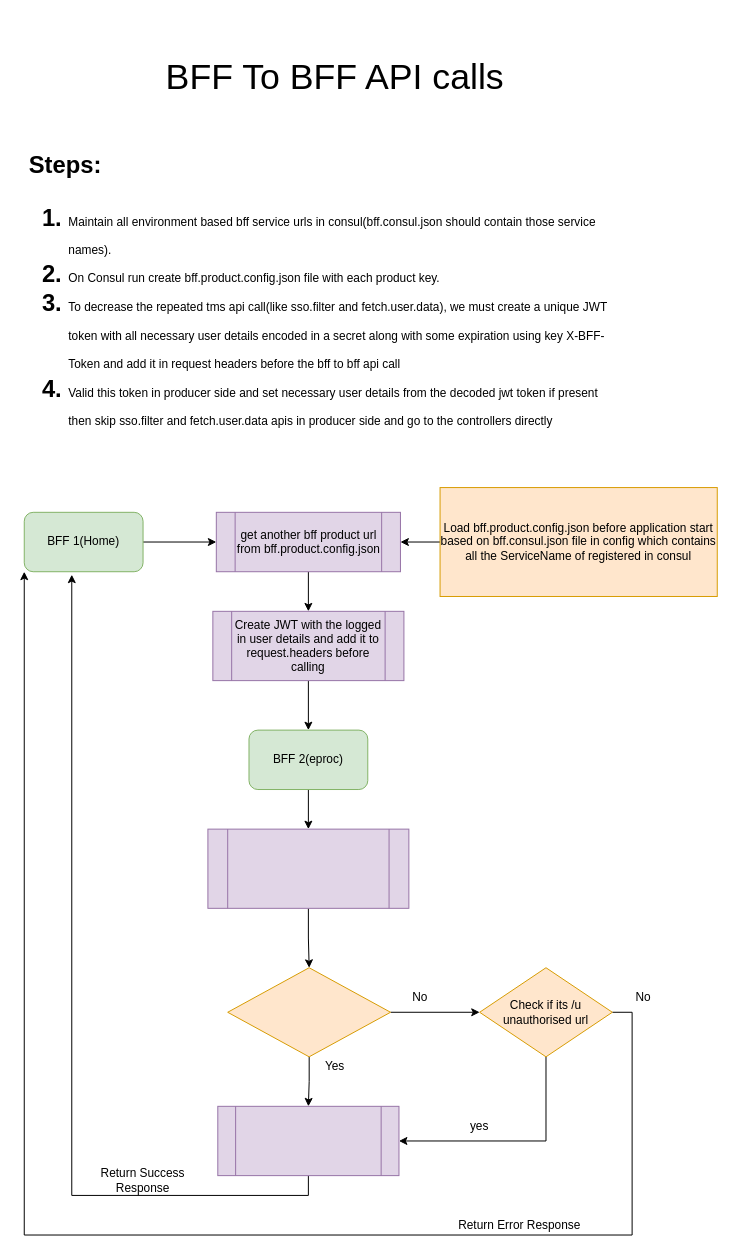
Some shapes in this 735 by 1260 pixel diagram are drawn without their labels. Here are the shapes that lost their labels. From the top down, the centre of each, then its label:
the point at 308,868: Validate X-BFF-Token and get and set user details
the point at 309,1012: Validate Token
the point at 308,1140: Call The Controller and return the response
